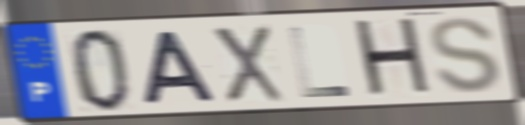0: (68, 27, 133, 114)
A: (141, 28, 221, 107)
H: (350, 15, 437, 102)
L: (285, 24, 353, 100)
S: (427, 15, 504, 96)
X: (208, 23, 287, 105)
